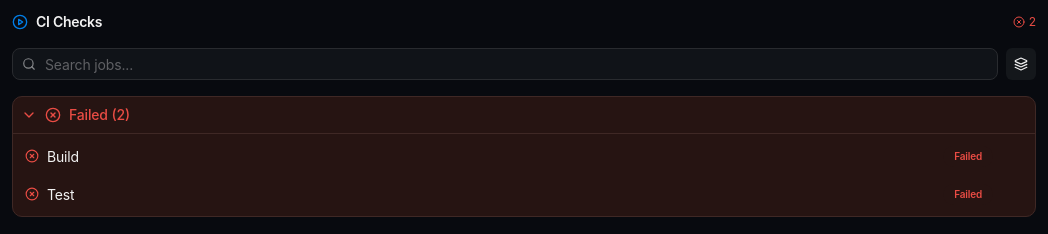
Test: CIChecksSection › search functionality › should clear search when X button is clicked
The width and height of the screenshot is (1048, 234).
Type "Build" into the field with placeholder "Search jobs..." at (505, 64), box [12, 48, 998, 80]
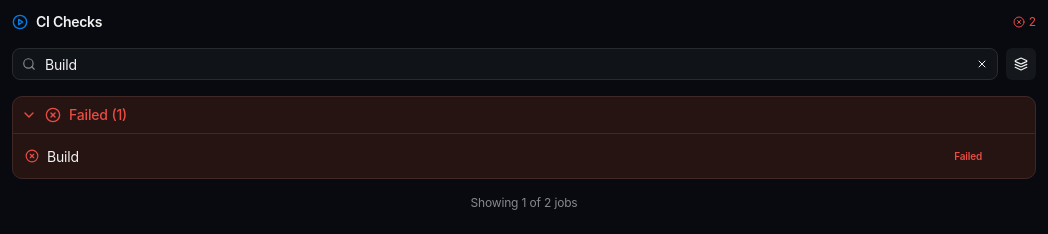
Expected: the button "Test" is gone
Click the 1st button at (982, 64), box [970, 52, 994, 76]
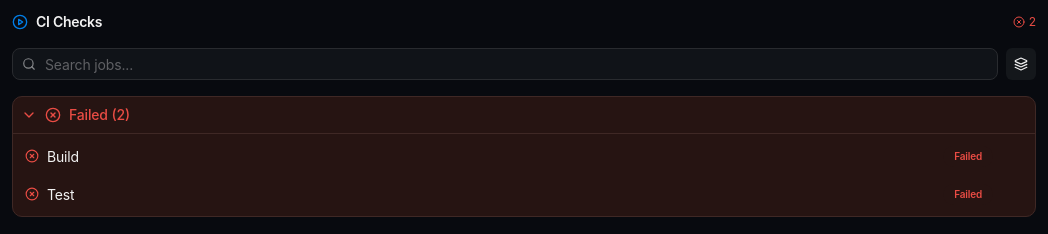
Expected: the button "Build" is shown, [47, 147, 79, 167]
Expected: the button "Test" is shown, [47, 185, 74, 205]
